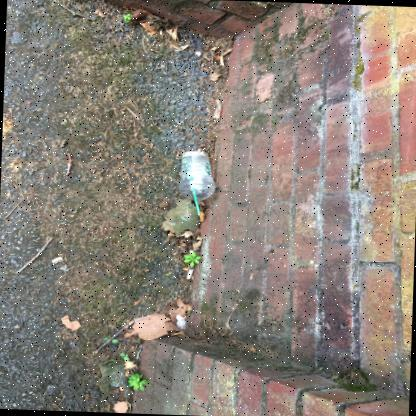Cigarette: (223, 48, 233, 56), (186, 269, 193, 280), (220, 56, 224, 66), (160, 30, 162, 35)
Disposable plastic cup: (177, 151, 215, 190)
Plastic lid: (178, 183, 215, 200)
Plastic straw: (192, 190, 201, 216)
